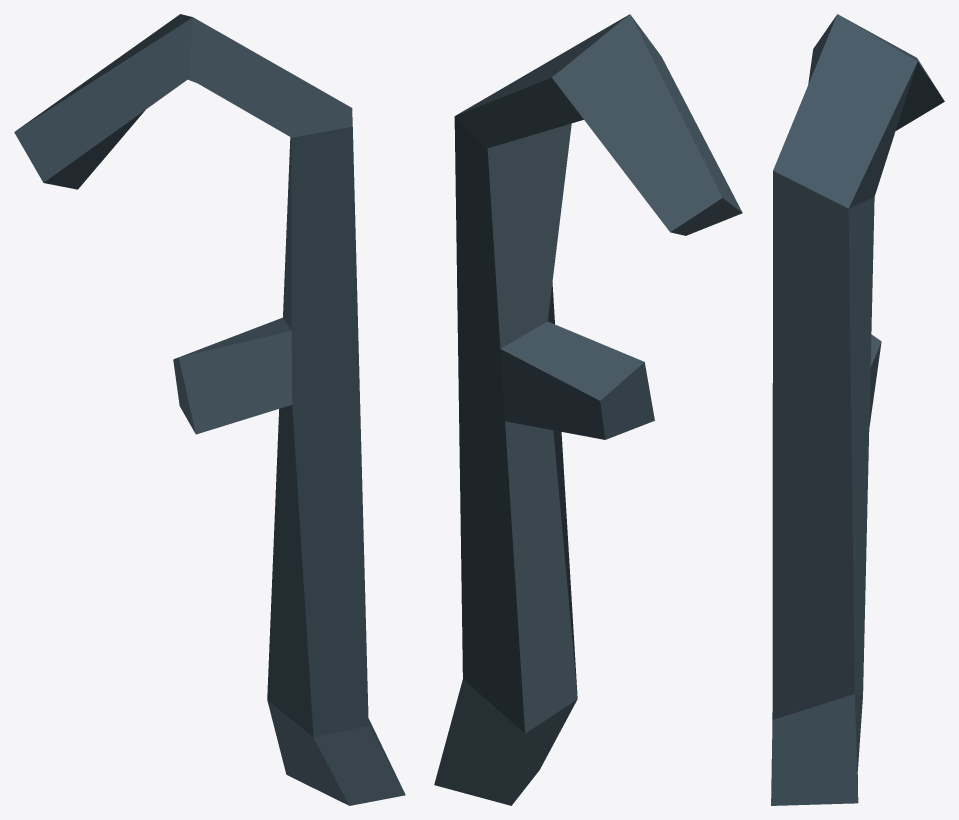
Rendered from lowercase-b.glb.
The picture shows the model from 3 angles, left to right: view 1: azimuth 30°, elevation 25°; view 2: azimuth 150°, elevation 25°; view 3: azimuth 270°, elevation 25°; orthographic projection. The views are drawn at different scales.
Size of the model in its own units: 0.1966 by 0.4739 by 0.1045.
